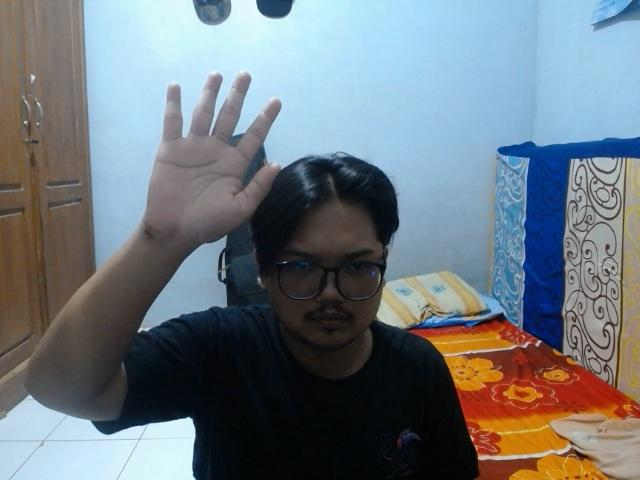Release: (137, 68, 287, 247)
